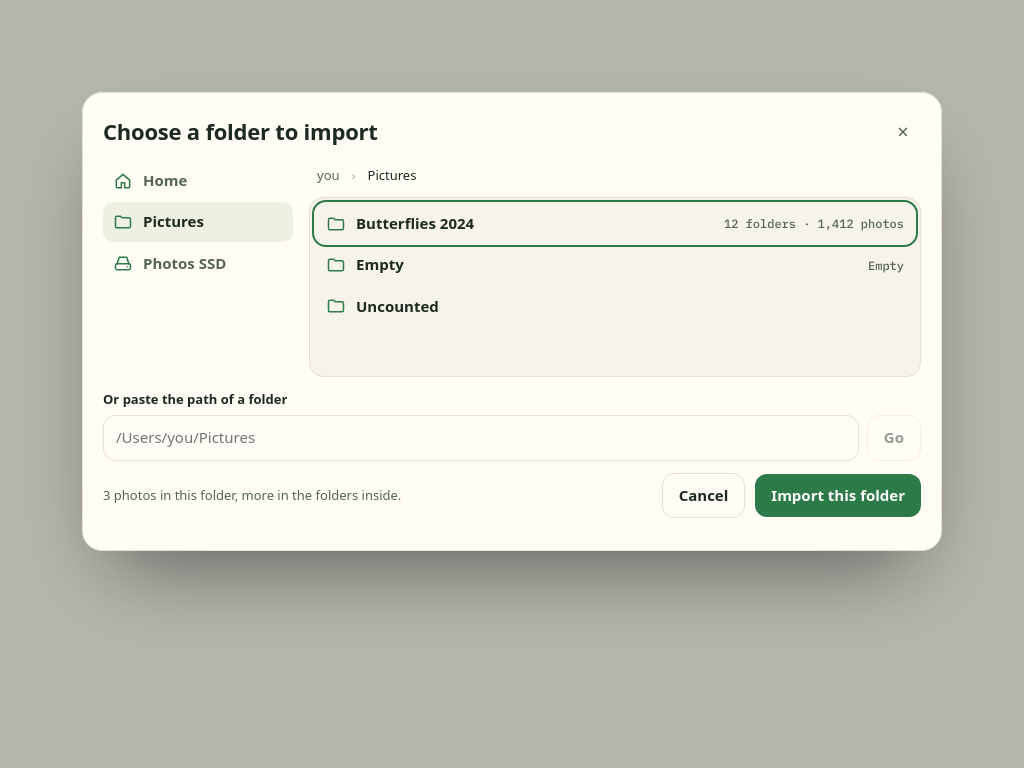
Test: the folder list is one Tab stop: arrows, Home and End move in it, Enter opens, Backspace and Alt+Up go up a level
This screenshot has width=1024, height=768.
Press ArrowDown in the button "Butterflies 2024 12 folders · 1,412 photos", box [316,204,914,244]
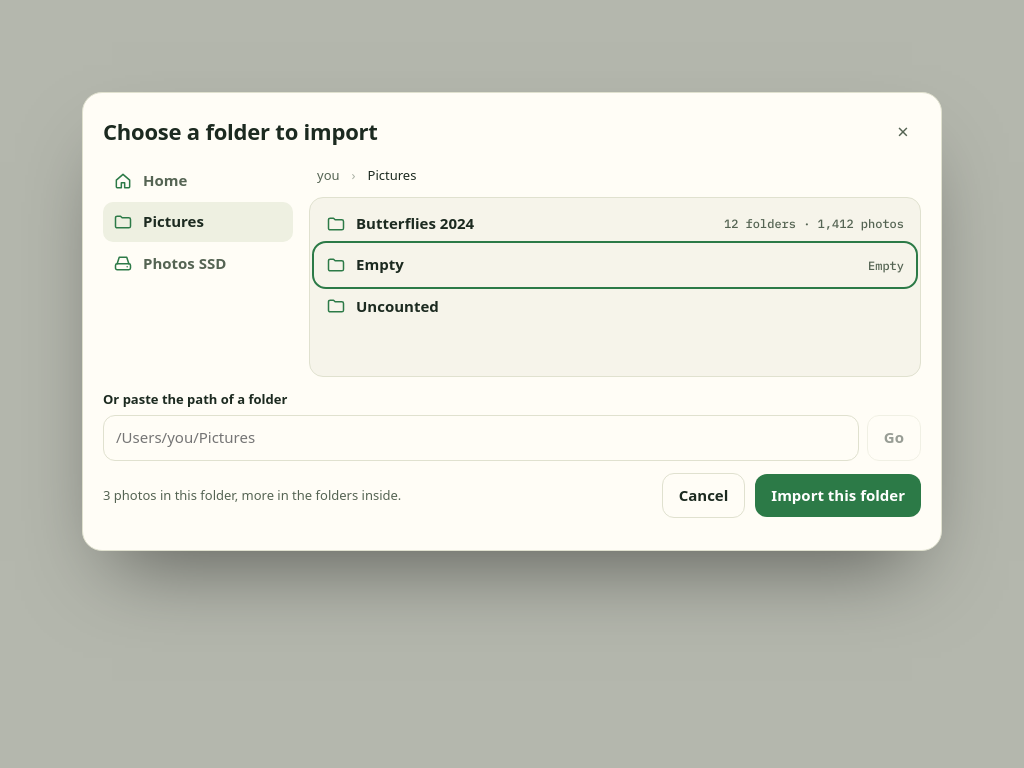
Press End in the button "Empty Empty", box [316,246,914,285]
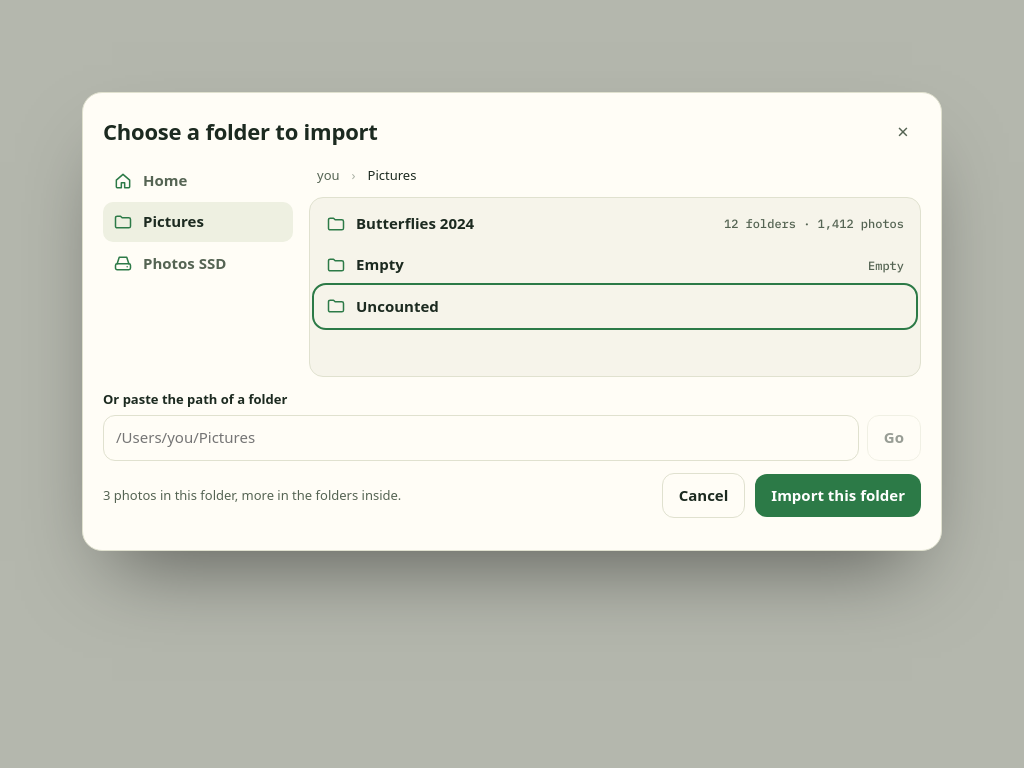
Press ArrowDown in the button "Uncounted", box [316,287,914,326]
Press Home in the button "Uncounted", box [316,287,914,326]
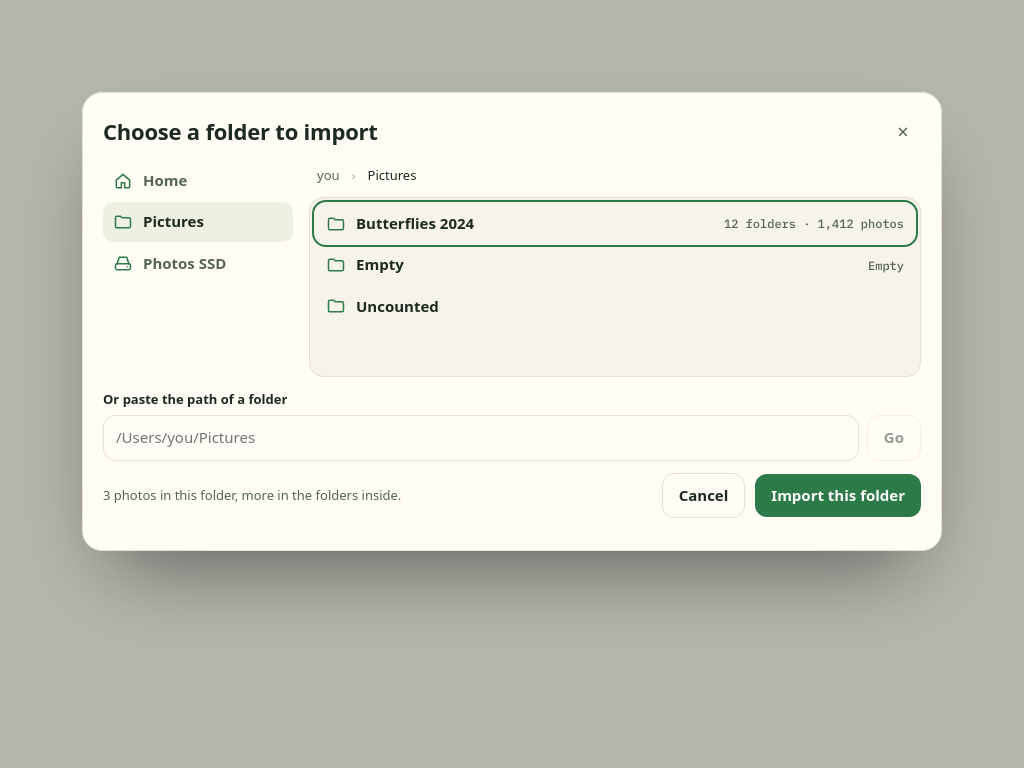
Press ArrowUp in the button "Butterflies 2024 12 folders · 1,412 photos", box [316,204,914,244]
Press Backspace in the button "Butterflies 2024 12 folders · 1,412 photos", box [316,204,914,244]
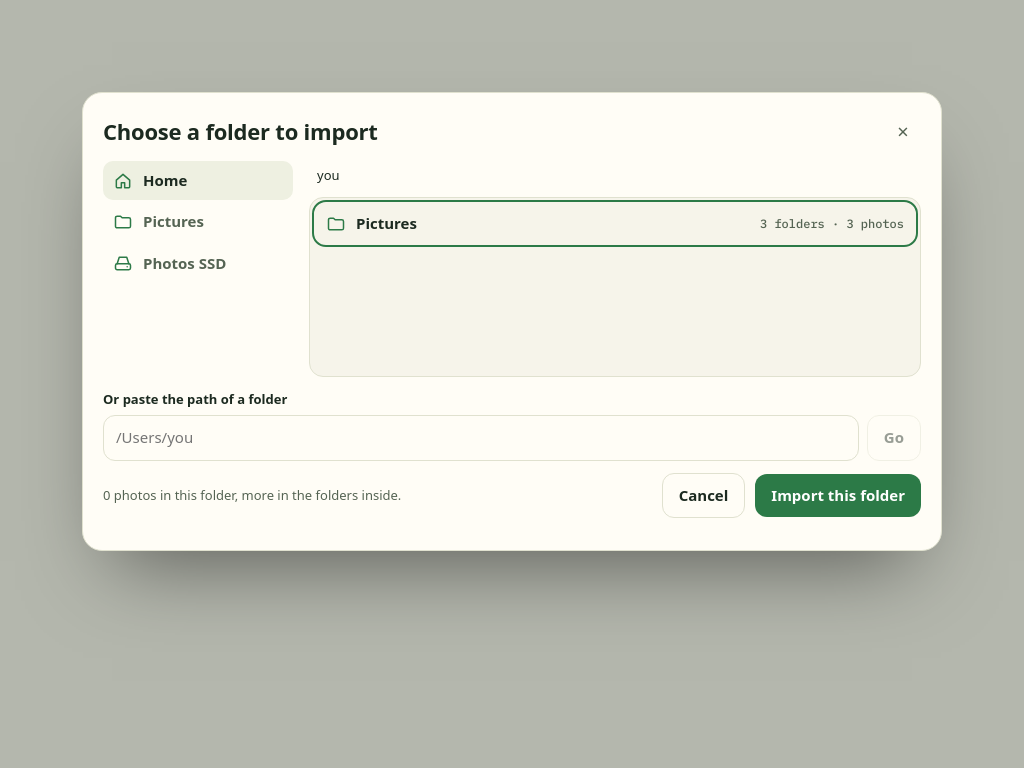
Expected: the list named "Folders in you" is shown, [309,197,921,377]
Click the button "Pictures 3 folders · 3 photos" at (386, 223), box [316,204,914,244]
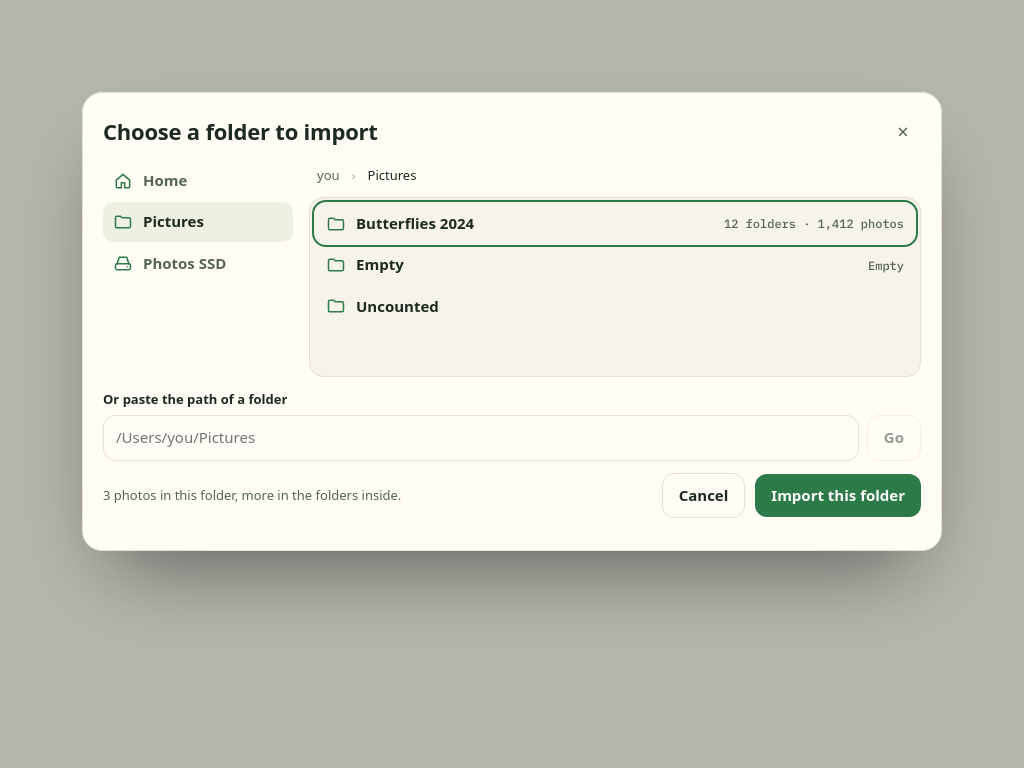
Press ArrowUp in the button "Butterflies 2024 12 folders · 1,412 photos", box [316,204,914,244]
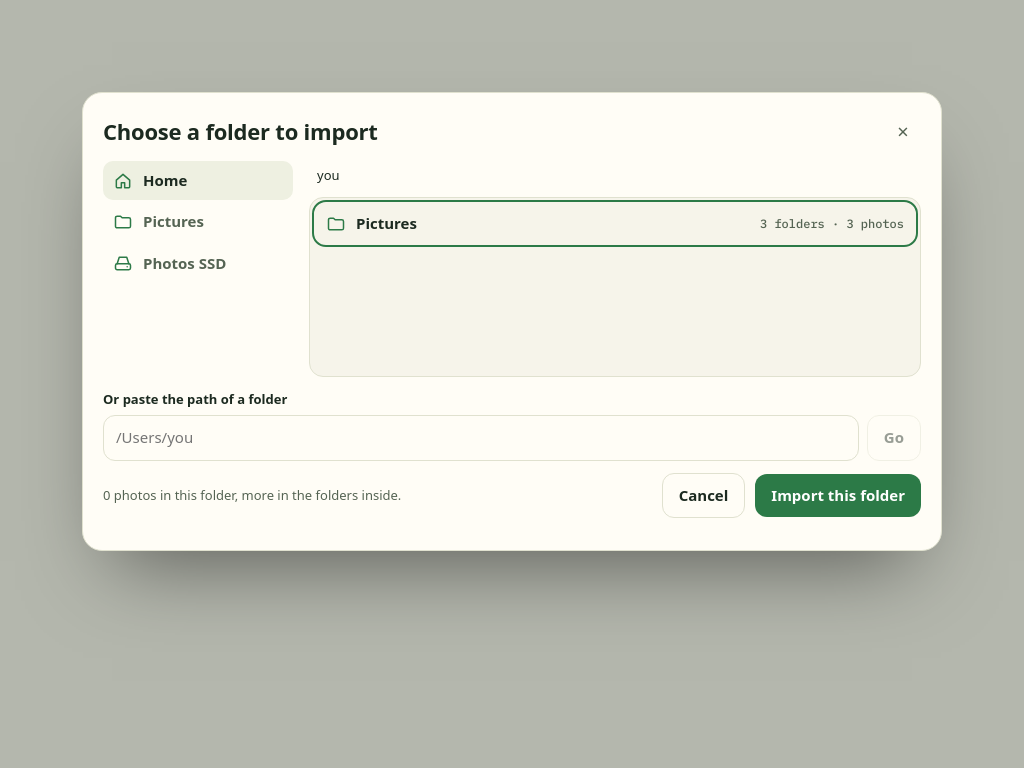
Expected: the list named "Folders in you" is shown, [309,197,921,377]
